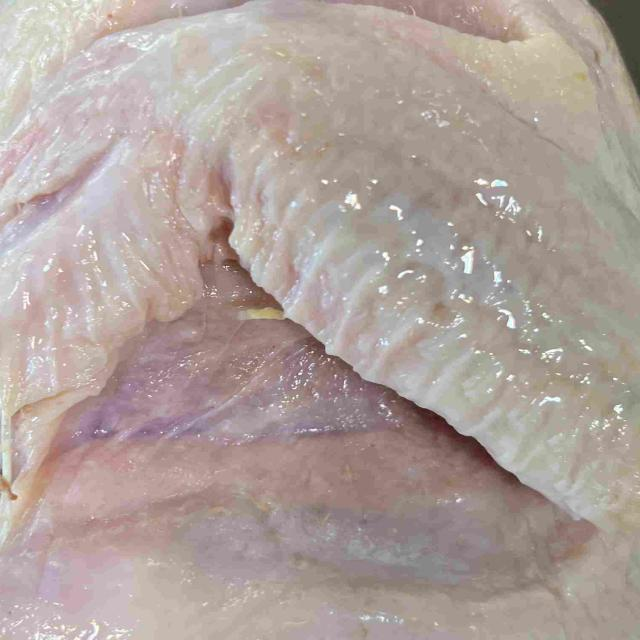wing: (0, 0, 640, 528)
